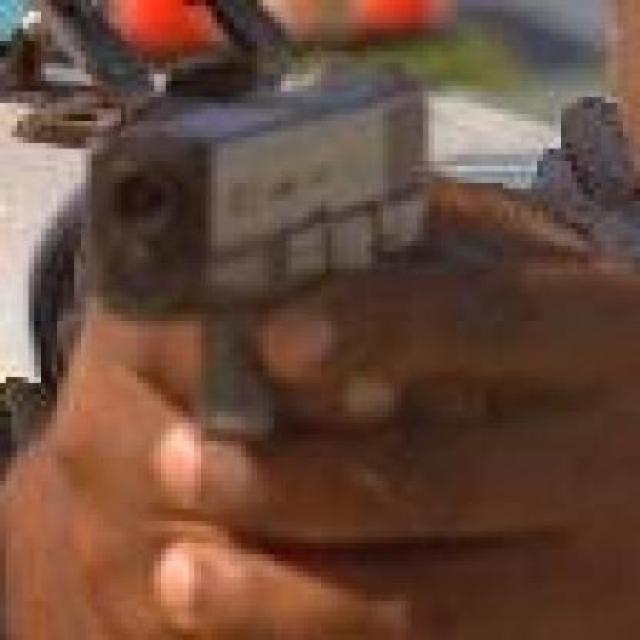rifle: (87, 58, 434, 444)
